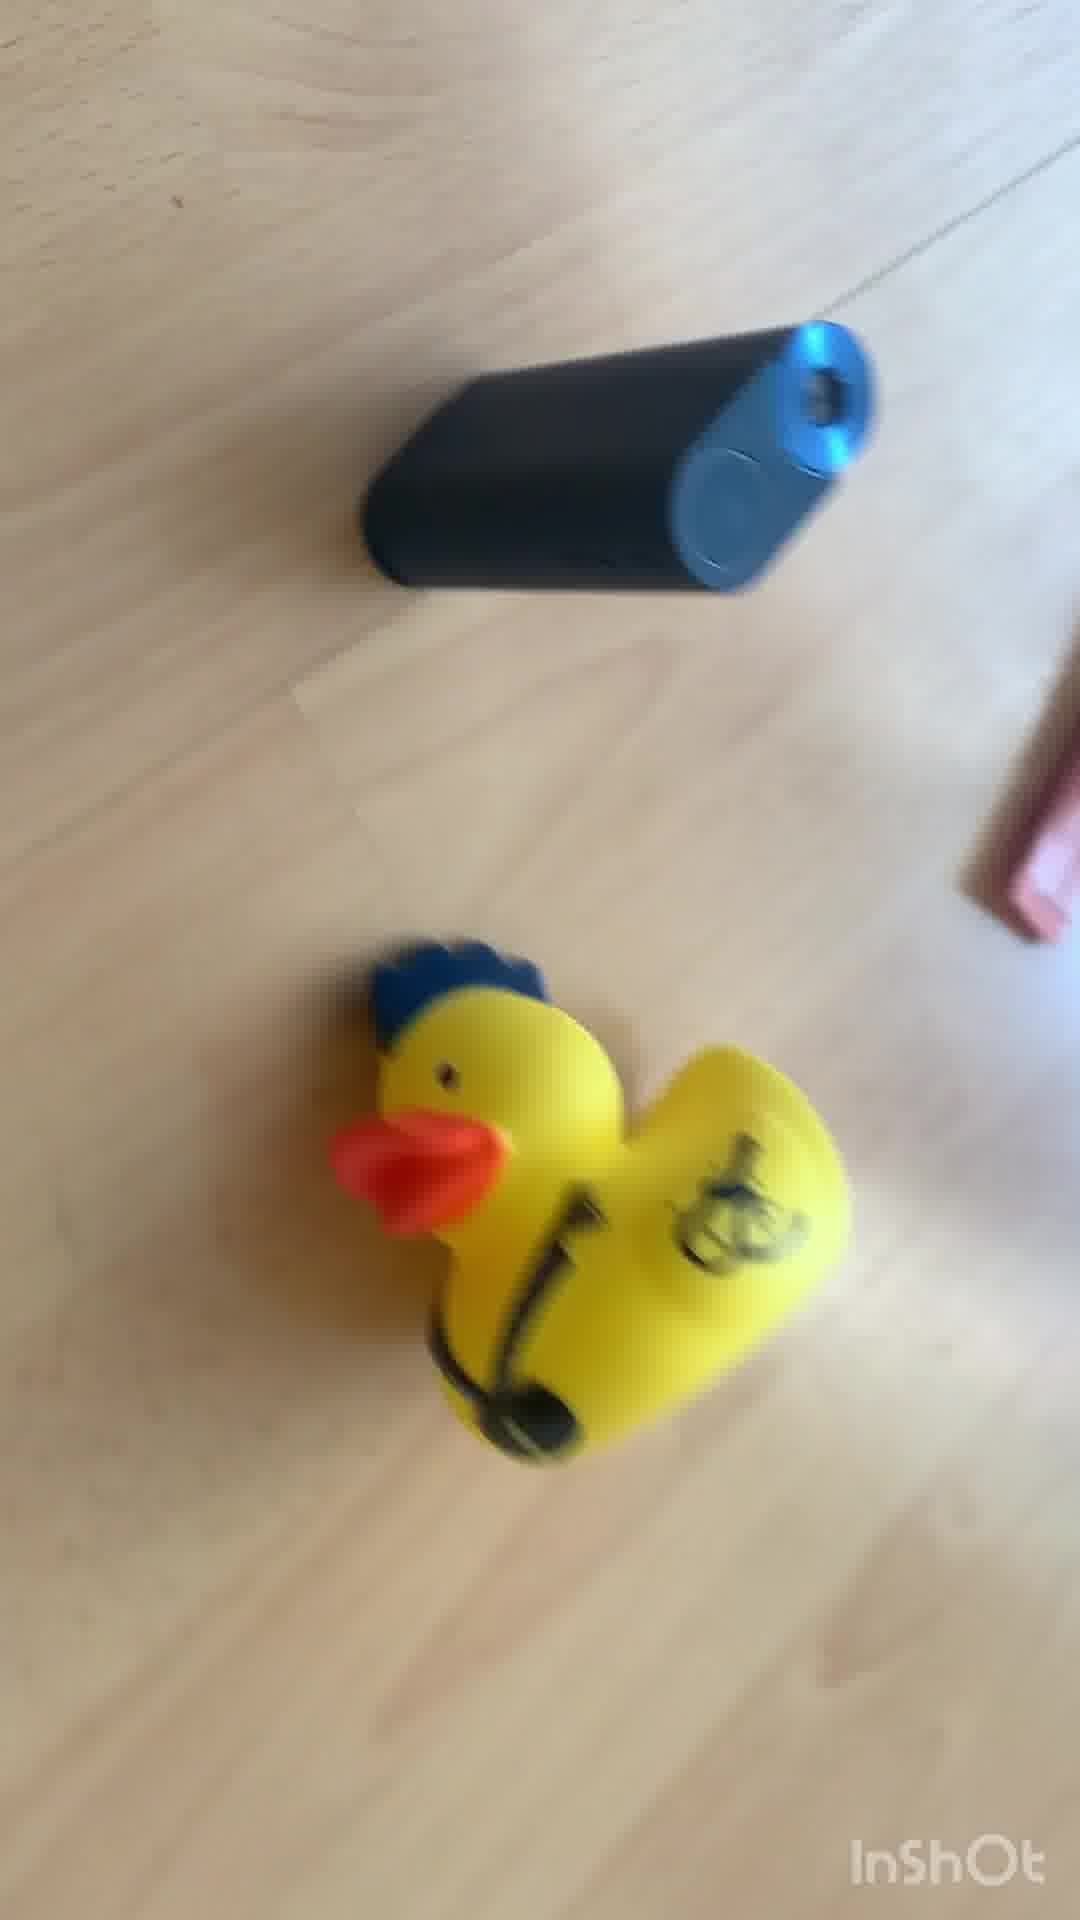duck: (339, 890, 851, 1469)
glo: (372, 328, 885, 618)
lip balm: (986, 764, 1080, 953)
